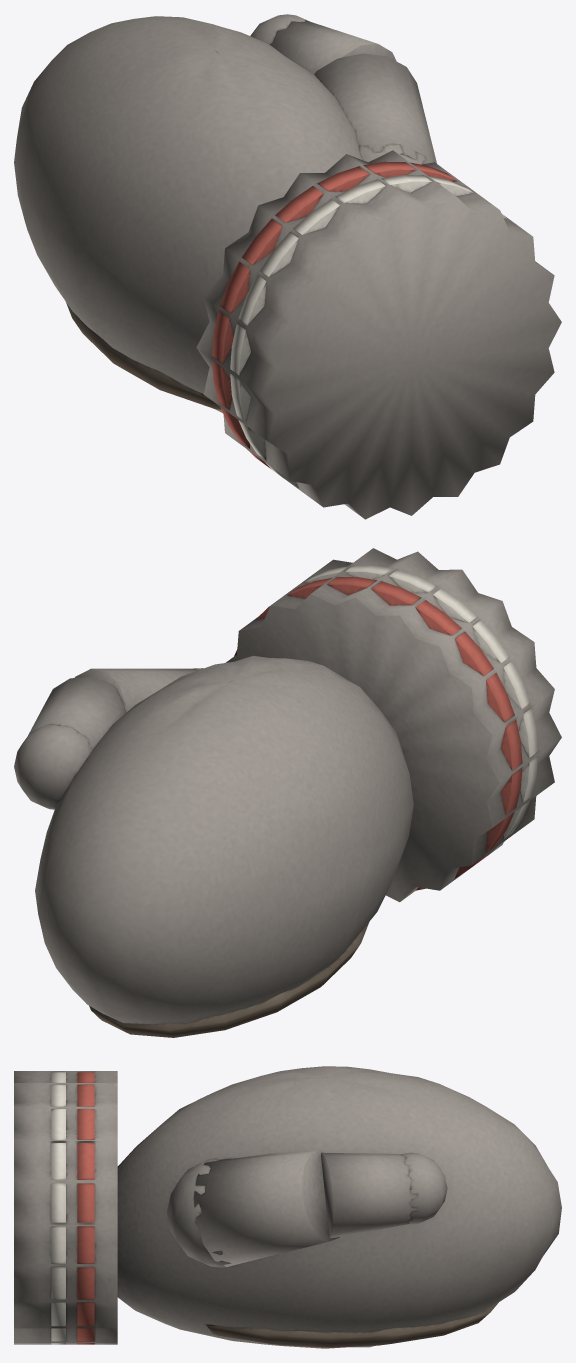
The model's file is fp_mitten_l.glb.
3 renders of one model, top to bottom at view 1: azimuth 30°, elevation 25°; view 2: azimuth 150°, elevation 25°; view 3: azimuth 270°, elevation 25°, orthographic. The views are drawn at different scales.
Visible parts, largest first — view 1: fp_mitten_l; view 2: fp_mitten_l; view 3: fp_mitten_l.
Boxes of the visible parts, bbox=[...] form: fp_mitten_l: bbox=[14, 14, 561, 519]; fp_mitten_l: bbox=[14, 548, 561, 1037]; fp_mitten_l: bbox=[14, 1066, 561, 1348].
Size of the model in its own units: 0.1086 by 0.1 by 0.1902.
Materials: 1 (1 with a texture image).
